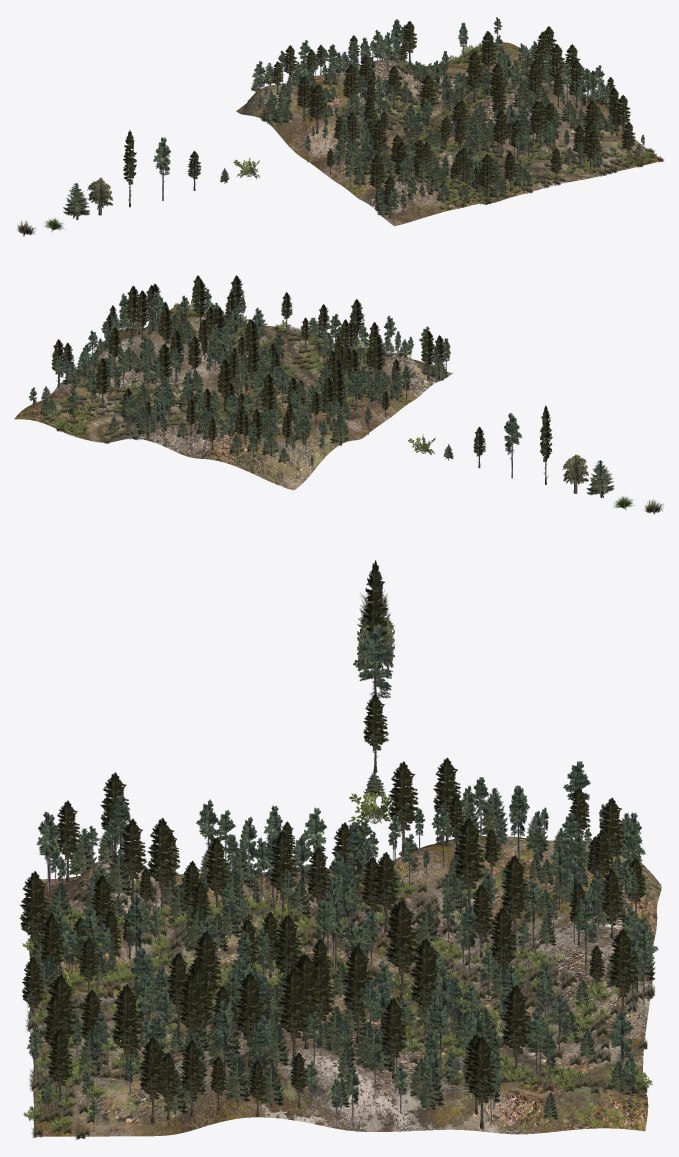
The model's file is a_forest_3_with_a_road_at_night_for_game.glb.
3 views of the same model, one above another, from view 1: azimuth 30°, elevation 25°; view 2: azimuth 150°, elevation 25°; view 3: azimuth 270°, elevation 25° (orthographic). The views are drawn at different scales.
Visible parts, largest first — view 1: Plane.002, Plane.005, Plane.006, Cylinder.001, 05ade0e713892be558511d706fa6c547-no-bg-preview (carve.photos, Cylinder.058, Cylinder.034, Cylinder.007, Cylinder.049, Cylinder.070, Cylinder.004, Cylinder.026 (+9 smaller); view 2: Plane.002, Plane.006, Plane.005, Cylinder.001, 05ade0e713892be558511d706fa6c547-no-bg-preview (carve.photos, Cylinder.071, Cylinder.026, Cylinder.073, Cylinder.070, Cylinder.004, Cylinder.047, Cylinder.012 (+2 smaller); view 3: Plane.002, 05ade0e713892be558511d706fa6c547-no-bg-preview (carve.photos (×2), Cylinder.047, Cylinder.077, Cylinder.026, Cylinder.071, Cylinder.012, Cylinder.007, Cylinder.070, Cylinder.085, Cylinder.034, Cylinder.058 (+29 smaller).
Part boxes in pixels (<box>): Plane.002: <box>236,42,662,226</box>; Plane.005: <box>63,183,89,219</box>; Plane.006: <box>87,177,113,215</box>; Cylinder.001: <box>123,130,136,207</box>; 05ade0e713892be558511d706fa6c547-no-bg-preview (carve.photos: <box>153,137,170,200</box>; Cylinder.058: <box>465,51,483,102</box>; Cylinder.034: <box>478,154,495,203</box>; Cylinder.007: <box>309,84,325,133</box>; Cylinder.049: <box>493,110,509,158</box>; Cylinder.070: <box>480,31,496,72</box>; Cylinder.004: <box>368,154,384,202</box>; Cylinder.026: <box>342,64,359,97</box>; Plane.002: <box>14,306,452,490</box>; Plane.006: <box>562,454,588,493</box>; Plane.005: <box>586,460,614,498</box>; Cylinder.001: <box>539,405,552,484</box>; 05ade0e713892be558511d706fa6c547-no-bg-preview (carve.photos: <box>504,413,522,478</box>; Cylinder.071: <box>193,279,208,328</box>; Cylinder.026: <box>261,373,277,414</box>; Cylinder.073: <box>134,290,150,339</box>; Cylinder.070: <box>95,358,110,407</box>; Cylinder.004: <box>421,330,436,379</box>; Cylinder.047: <box>217,359,233,411</box>; Cylinder.012: <box>370,335,385,375</box>; Plane.002: <box>29,836,661,1136</box>; 05ade0e713892be558511d706fa6c547-no-bg-preview (carve.photos (×2): <box>125,623,393,957</box>; Cylinder.047: <box>386,900,418,1000</box>; Cylinder.077: <box>278,967,309,1062</box>; Cylinder.026: <box>453,817,486,904</box>; Cylinder.071: <box>111,984,143,1080</box>; Cylinder.012: <box>147,818,179,913</box>; Cylinder.007: <box>388,761,420,857</box>; Cylinder.070: <box>501,985,532,1076</box>; Cylinder.085: <box>467,1036,497,1129</box>; Cylinder.034: <box>19,871,50,959</box>; Cylinder.058: <box>410,938,440,1036</box>.
Bounding box in the file's own units: 19.24 × 2.85 × 9.74.
3 materials, 3 textured.
